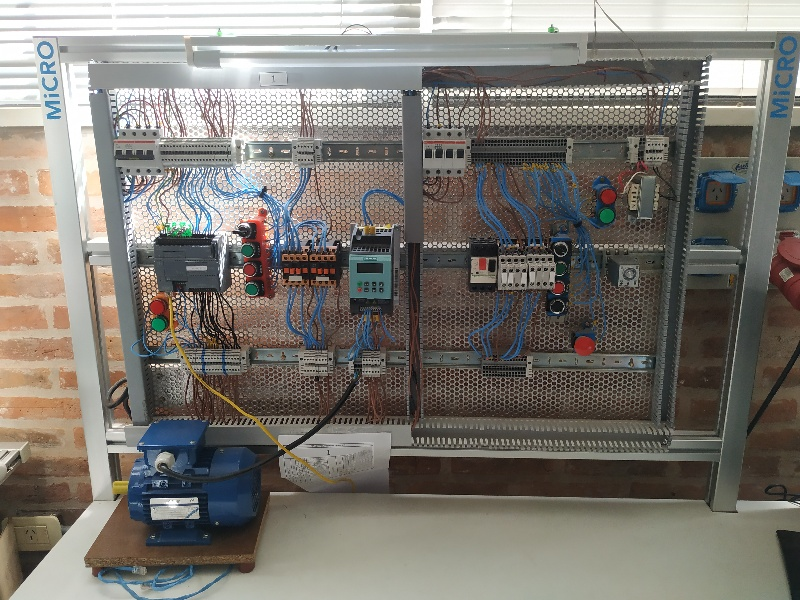Tablero 1: (102, 86, 670, 455)
